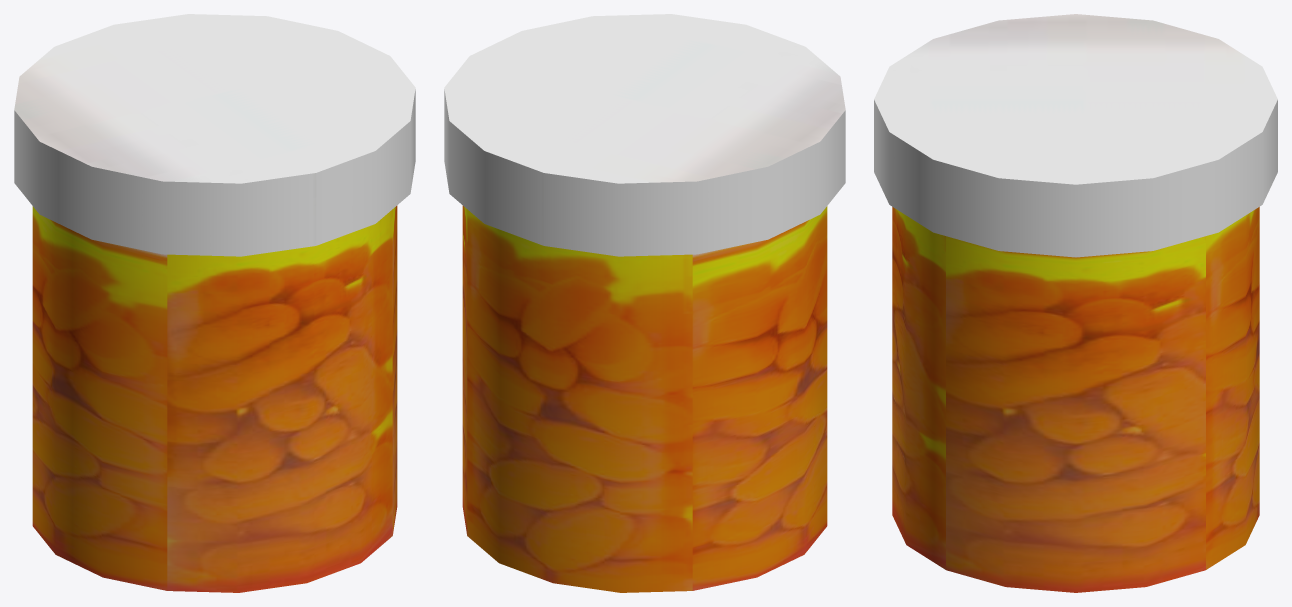
Rendered from Pillbottle.FBX.
The picture shows the model from 3 angles, left to right: view 1: azimuth 30°, elevation 25°; view 2: azimuth 150°, elevation 25°; view 3: azimuth 270°, elevation 25°; orthographic projection.
Parts seen in each view (by area): view 1: Cylinder002; view 2: Cylinder002; view 3: Cylinder002.
Boxes of the visible parts, <box> form: Cylinder002: <box>14,14,415,592</box>; Cylinder002: <box>444,14,845,592</box>; Cylinder002: <box>874,14,1277,592</box>.
Size of the model in its own units: 86.61 by 98.43 by 86.61.
Materials: 1 (1 with a texture image).
